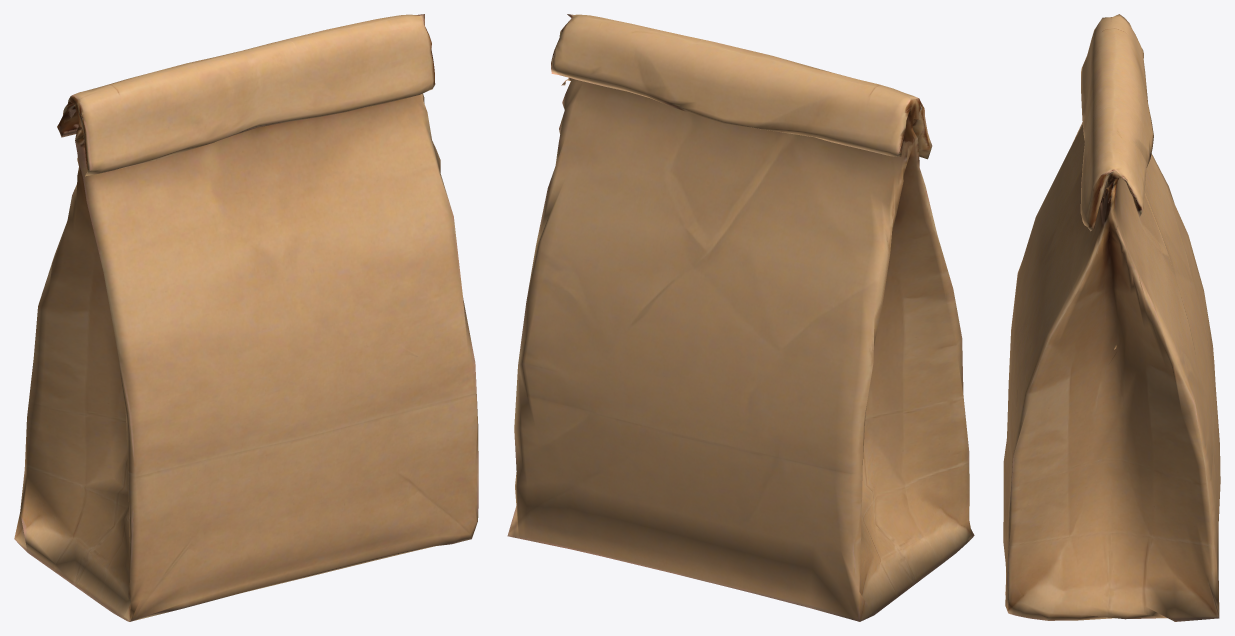
The model's file is Meshy_Model_20250604_205637.glb.
3 views of the same model, side by side, from view 1: azimuth 30°, elevation 25°; view 2: azimuth 150°, elevation 25°; view 3: azimuth 270°, elevation 25° (orthographic). The views are drawn at different scales.
Size of the model in its own units: 1.49 by 1.98 by 0.8545.
1 material, 1 textured.
